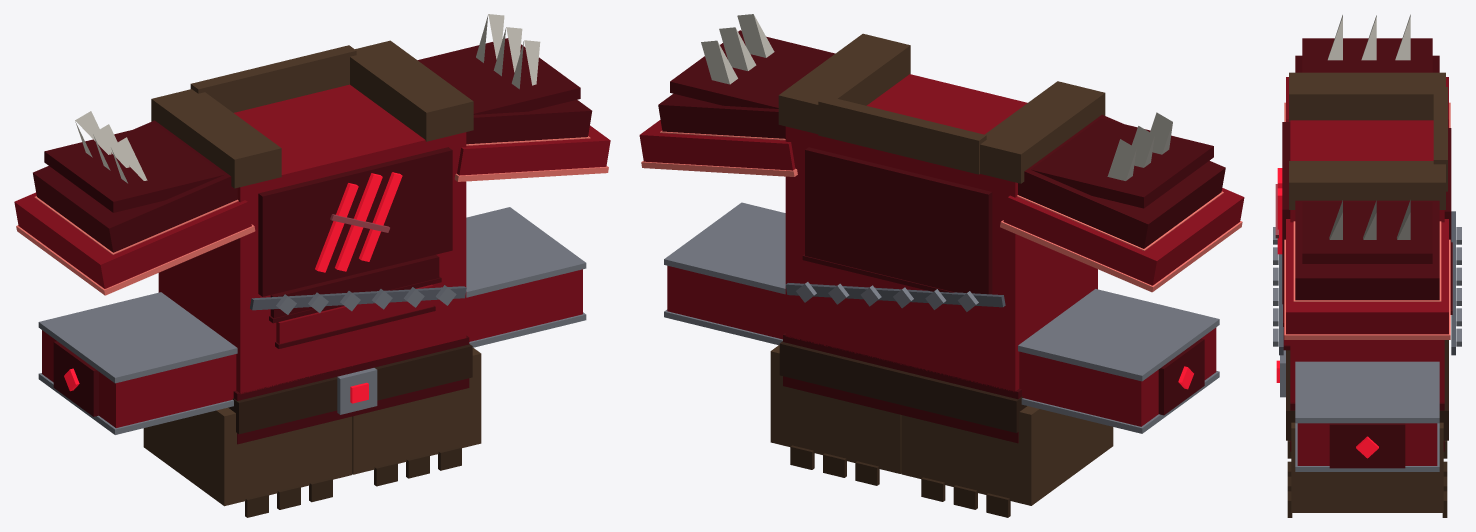
3 views of the same model, side by side, from view 1: azimuth 30°, elevation 25°; view 2: azimuth 150°, elevation 25°; view 3: azimuth 270°, elevation 25° (orthographic). The views are drawn at different scales.
Visible parts, largest first — view 1: rank-berserker-c; view 2: rank-berserker-c; view 3: rank-berserker-c.
Part boxes in pixels (left/top/right/bottom): rank-berserker-c: left=14, top=14, right=610, bottom=517; rank-berserker-c: left=639, top=14, right=1244, bottom=517; rank-berserker-c: left=1273, top=14, right=1461, bottom=517.
Bounding box in the file's own units: 1.24 × 0.887 × 0.4211.
